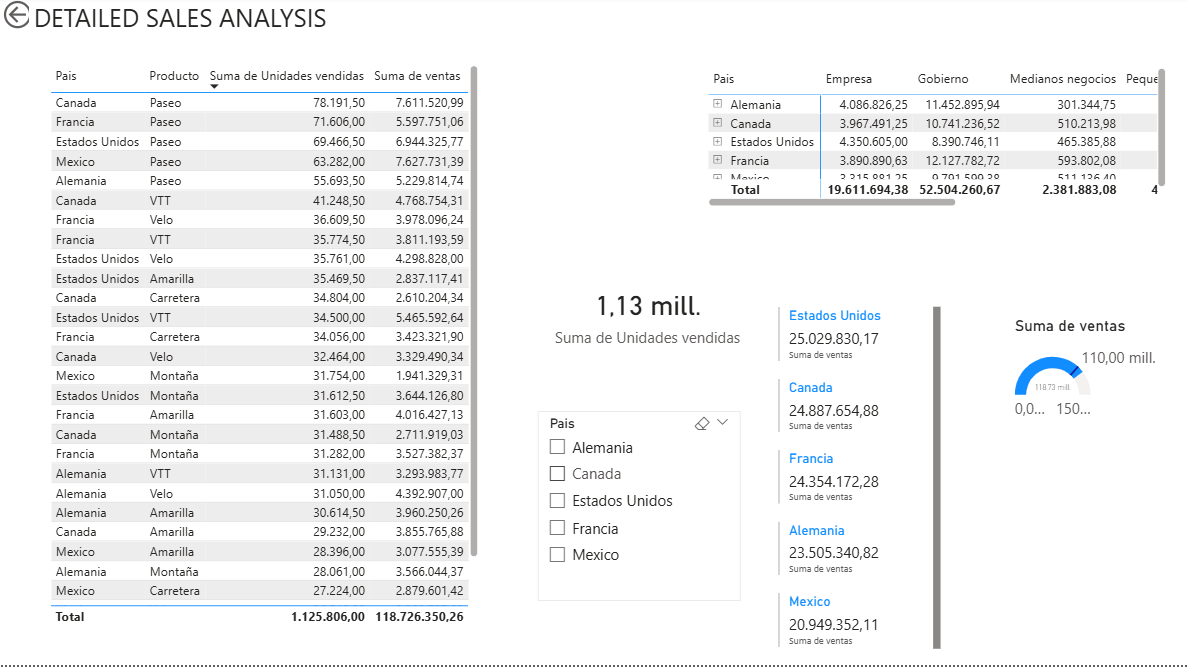

This screenshot's page, from the dashboard's own definition file:
{"tool":"powerbi","page":{"name":"Página 1","canvas":[1280,720],"ordinal":0},"visuals":[{"type":"actionButton","box":[0,0,100,40],"z":0},{"type":"tableEx","fields":{"Values":["financials.Pais","financials.Producto","Sum(financials.Unidades vendidas)","Sum(financials.Ventas)"]},"box":[49.8,69.9,470.7,611.9],"z":1000},{"type":"pivotTable","fields":{"Rows":["financials.Pais","financials.Producto"],"Columns":["financials.Segmento"],"Values":["Sum(financials.Ventas)"]},"box":[758.5,72.6,501.6,158.7],"z":2000},{"type":"multiRowCard","fields":{"Values":["Sum(financials.Ventas)","financials.Pais"]},"box":[833.8,329.5,184.2,390],"z":3000},{"type":"card","fields":{"Values":["Sum(financials.Unidades vendidas)"]},"box":[562.1,282.4,271.7,119.7],"z":4000},{"type":"gauge","fields":{"Y":["Sum(financials.Ventas)"]},"box":[1088,344.3,168.1,135.8],"z":5000},{"type":"slicer","fields":{"Values":["financials.Pais"]},"box":[579.6,446.5,217.9,204.4],"z":6000}]}

Visuals, with their boxes in screenshot pixels (x1, y1, x2, y2), scaled from the page's 1280x720 canvas onto the 1188x667 screenshot:
actionButton: (0,0,93,37)
tableEx - financials.Pais x financials.Producto: (46,65,483,632)
pivotTable - financials.Pais x financials.Producto: (704,67,1170,214)
multiRowCard - Sum(financials.Ventas) x financials.Pais: (774,305,945,666)
card - Sum(financials.Unidades vendidas): (522,262,774,373)
gauge - Sum(financials.Ventas): (1010,319,1166,445)
slicer - financials.Pais: (538,414,740,603)
